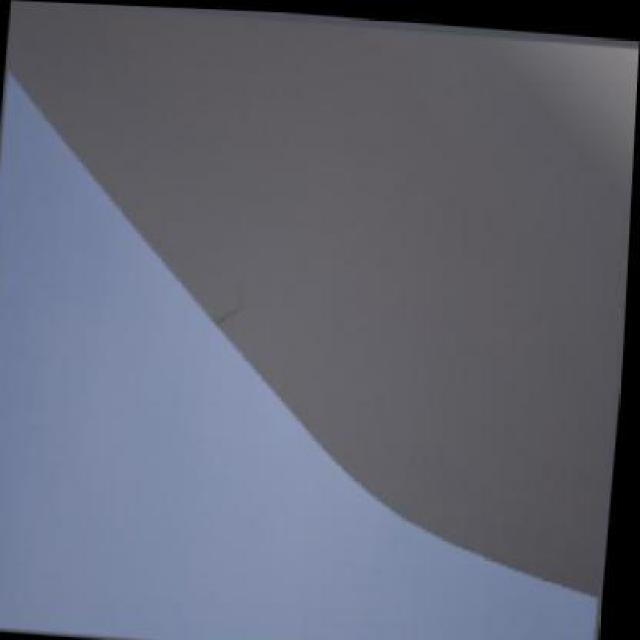Crack: (217, 293, 254, 327)
